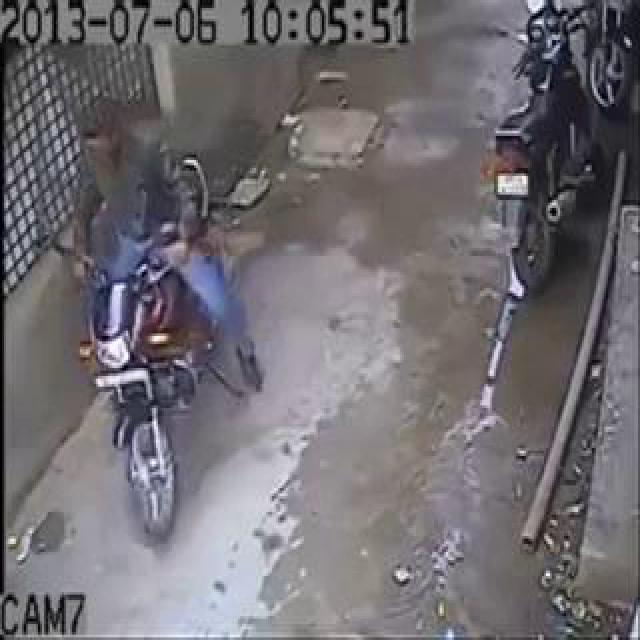stealing: (39, 33, 287, 570)
